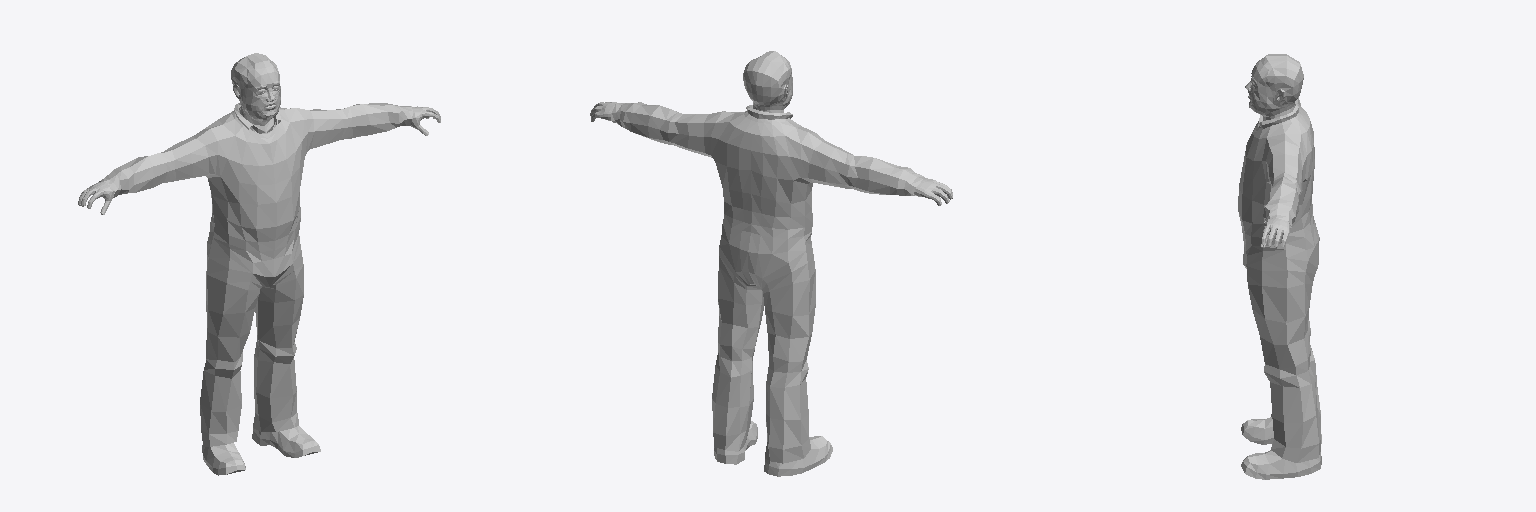
The model's file is Alfred.obj.
The picture shows the model from 3 angles: view 1: azimuth 30°, elevation 25°; view 2: azimuth 150°, elevation 25°; view 3: azimuth 270°, elevation 25°; orthographic projection.
Size of the model in its own units: 9.18 by 9.75 by 1.84.